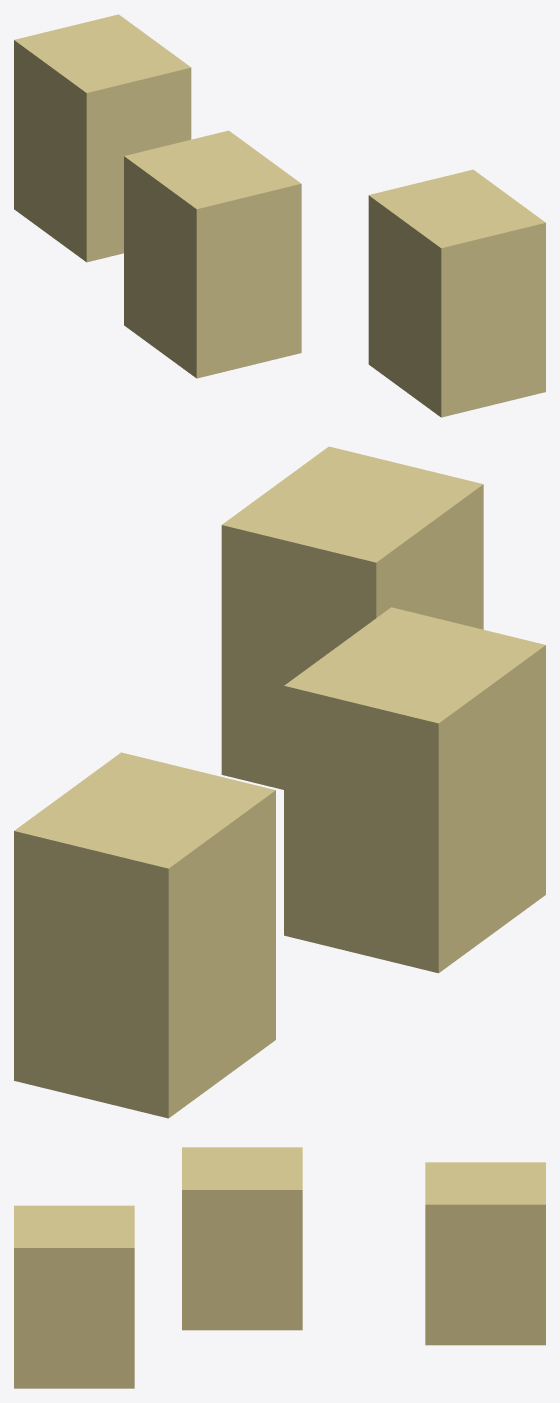
The model's file is camera_3d.DAE.
3 views of the same model, one above another, from view 1: azimuth 30°, elevation 25°; view 2: azimuth 150°, elevation 25°; view 3: azimuth 270°, elevation 25° (orthographic). The views are drawn at different scales.
Visible parts, largest first — view 1: Box001, Box002, Box003; view 2: Box001, Box003, Box002; view 3: Box001, Box002, Box003.
Part boxes in pixels (box(x1,y1,x2,y2)): Box001: box(124, 130, 301, 378); Box002: box(368, 169, 545, 417); Box003: box(14, 14, 191, 262); Box001: box(284, 607, 545, 973); Box003: box(14, 752, 275, 1118); Box002: box(221, 446, 483, 789); Box001: box(182, 1147, 302, 1330); Box002: box(14, 1205, 134, 1388); Box003: box(425, 1162, 545, 1345).
Size of the model in its own units: 73.21 by 164 by 47.73.
